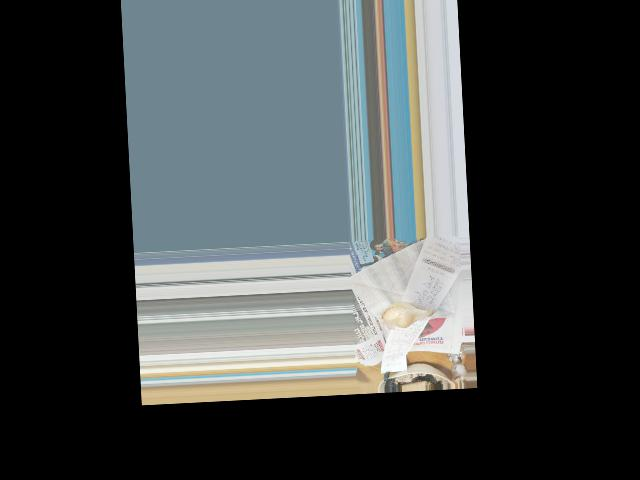onion: (381, 301, 425, 326)
